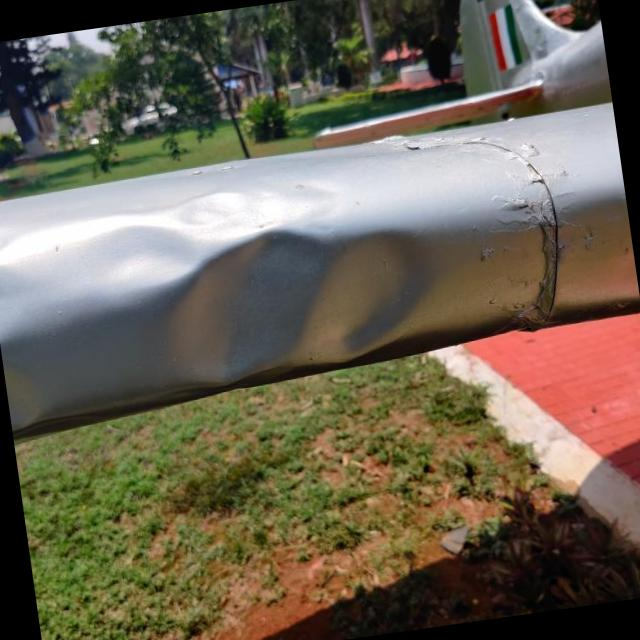Dent: (41, 146, 469, 425), (0, 338, 91, 439)
